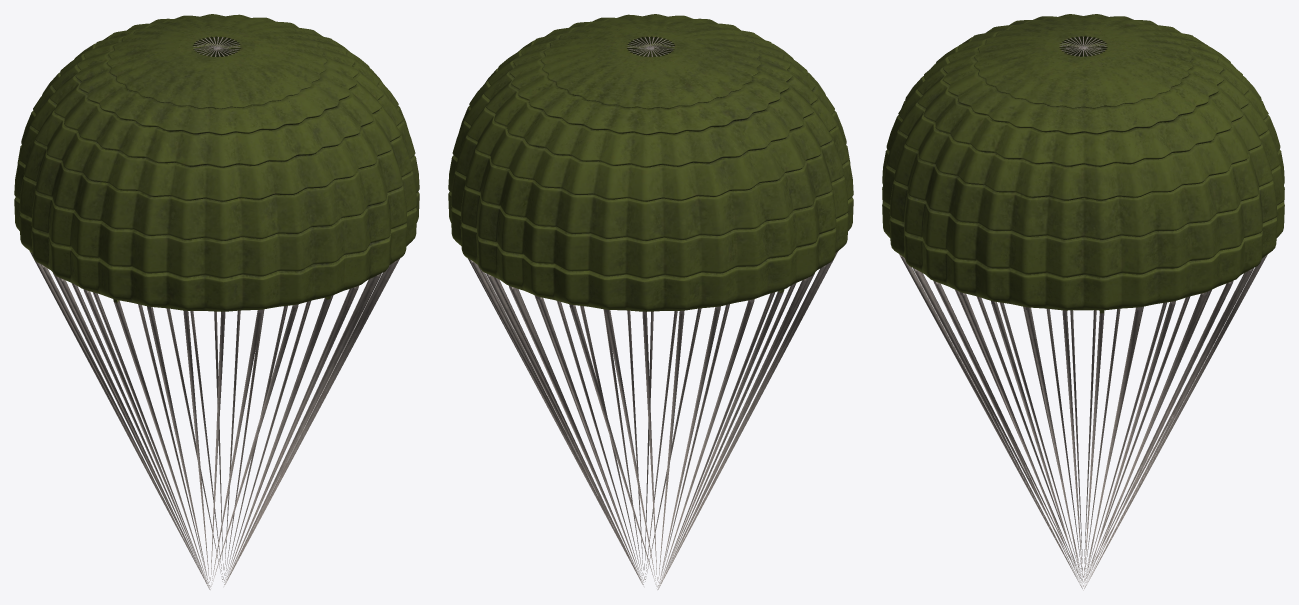
The model's file is parachute.glb.
3 views of the same model, side by side, from view 1: azimuth 30°, elevation 25°; view 2: azimuth 150°, elevation 25°; view 3: azimuth 270°, elevation 25° (orthographic).
Visible parts, largest first — view 1: parachute; view 2: parachute; view 3: parachute.
Boxes of the visible parts, x1,y1,x2,y2 form: parachute: (14,14,419,589); parachute: (448,14,853,589); parachute: (882,14,1284,590).
Bounding box in the file's own units: 8.09 × 12 × 8.09.
Materials: 1 (1 with a texture image).
